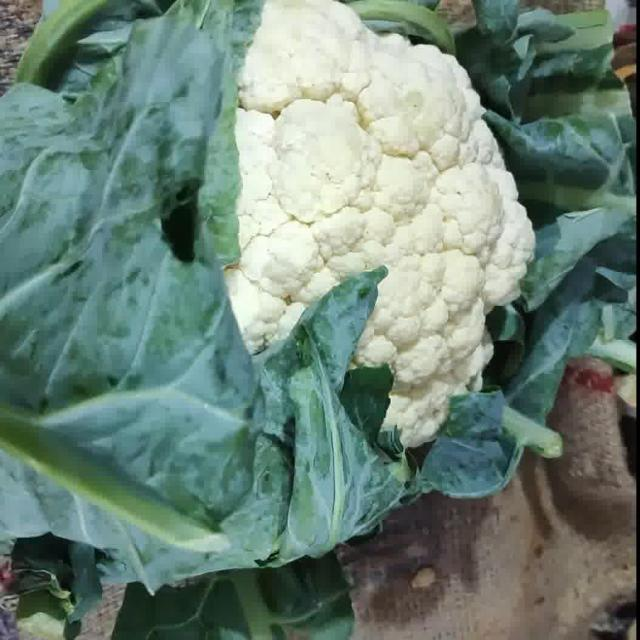Cauliflower: (226, 0, 534, 448)
